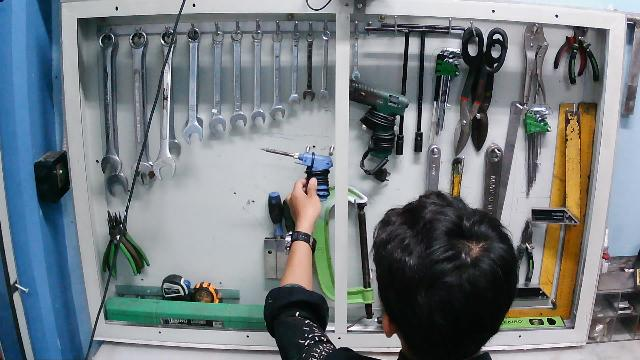solder_electrical: (257, 143, 334, 205)
